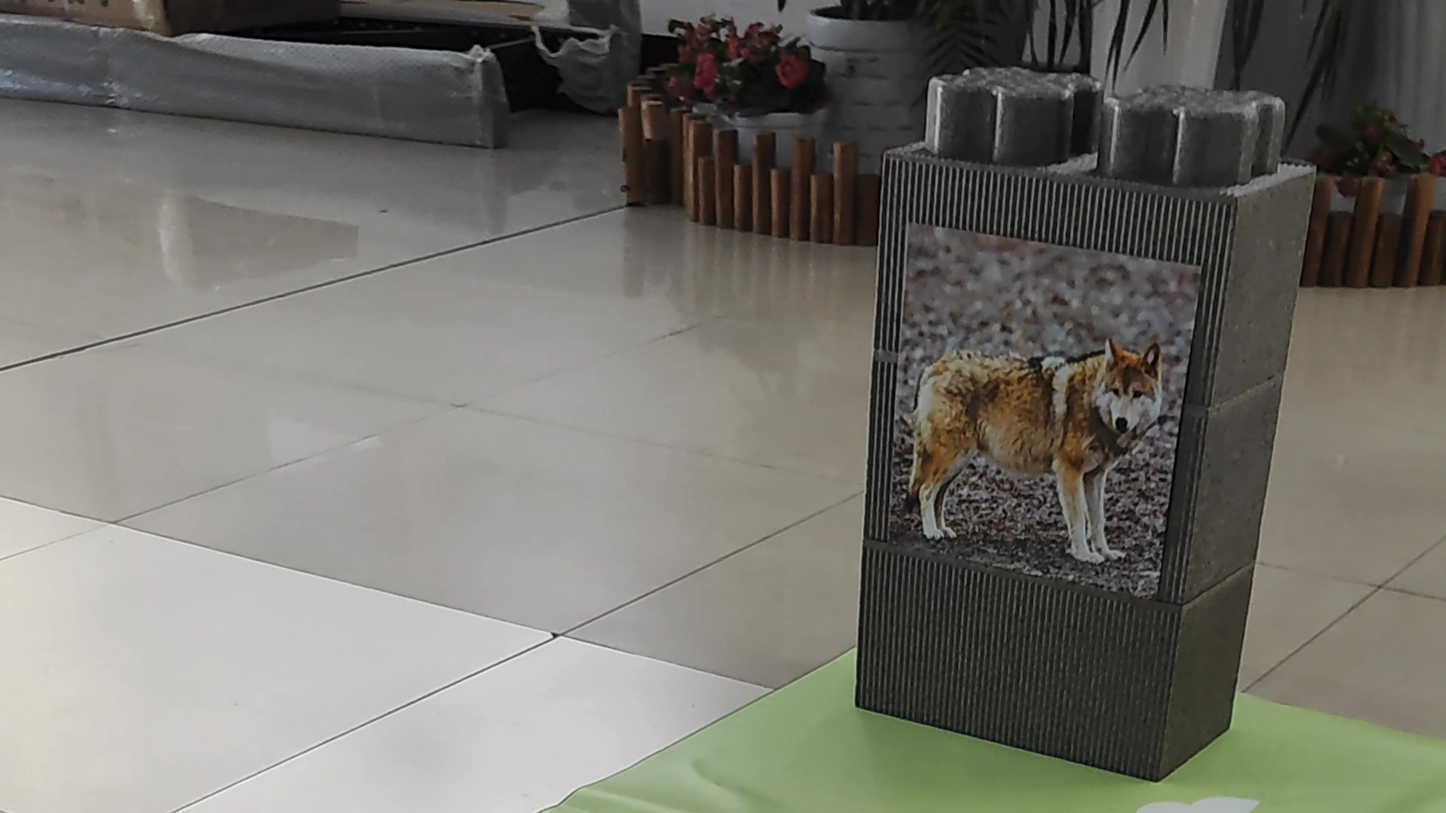wolf: (896, 271, 1173, 583)
